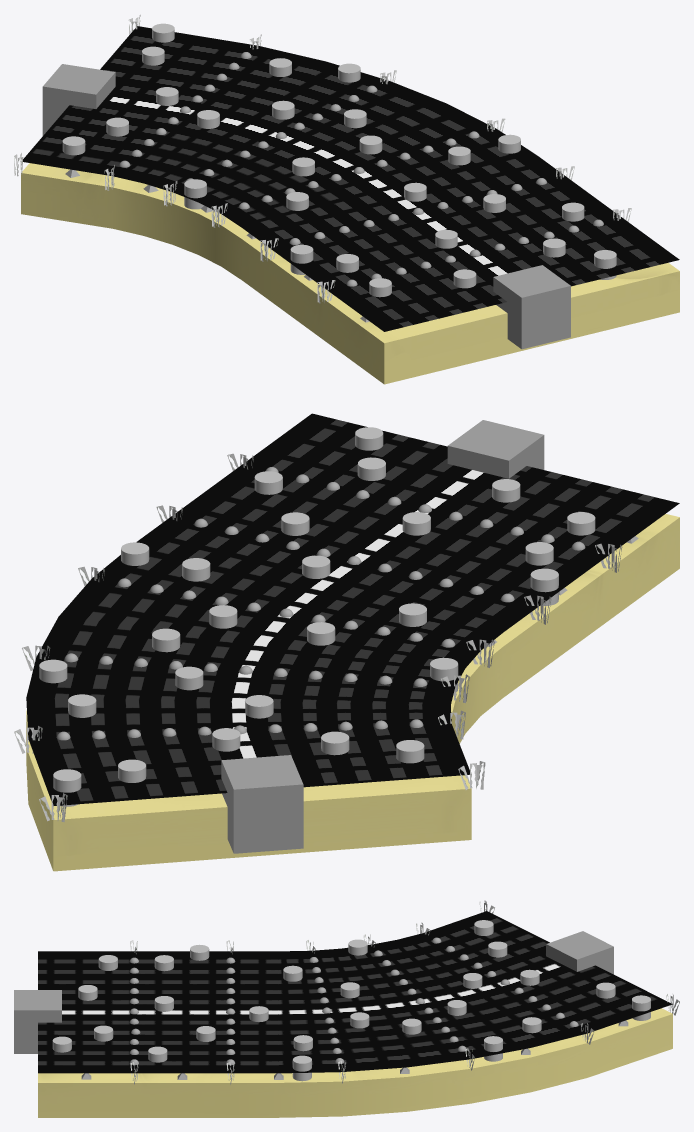
File: assets010_Streckenteil_links002.fbx
The picture shows the model from 3 angles, top to bottom: view 1: azimuth 30°, elevation 25°; view 2: azimuth 150°, elevation 25°; view 3: azimuth 270°, elevation 25°; orthographic projection. The views are drawn at different scales.
Parts seen in each view (by area): view 1: streckenteil_linkskurve_indicator_geo, streckenteil_linkskurve_geo2, startpoint, endpoint, b; view 2: streckenteil_linkskurve_indicator_geo, streckenteil_linkskurve_geo2, endpoint, startpoint, a; view 3: streckenteil_linkskurve_indicator_geo, streckenteil_linkskurve_geo2, startpoint, endpoint, a, b, c.
Part boxes in pixels (box(x1,y1,x2,y2)): streckenteil_linkskurve_indicator_geo: box(21, 26, 679, 331); streckenteil_linkskurve_geo2: box(21, 163, 679, 384); startpoint: box(493, 265, 570, 349); endpoint: box(42, 64, 115, 135); b: box(184, 179, 206, 209); streckenteil_linkskurve_indicator_geo: box(26, 413, 679, 805); streckenteil_linkskurve_geo2: box(26, 514, 679, 871); endpoint: box(221, 755, 303, 853); startpoint: box(447, 420, 544, 478); a: box(530, 568, 558, 605); streckenteil_linkskurve_indicator_geo: box(38, 911, 672, 1073); streckenteil_linkskurve_geo2: box(38, 1008, 672, 1117); startpoint: box(14, 990, 61, 1053); endpoint: box(546, 931, 613, 974); a: box(292, 1055, 311, 1081); b: box(484, 1036, 502, 1061); c: box(632, 995, 650, 1020).
Bounding box in the file's own units: 41.81 × 6.5 × 69.18.
